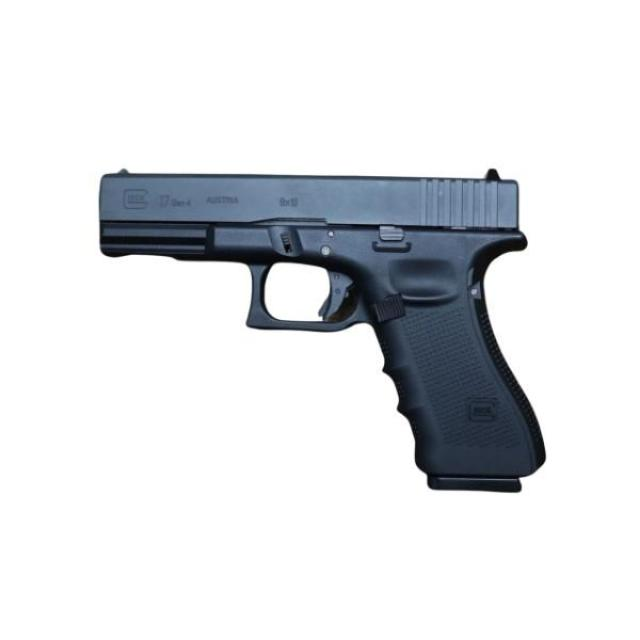gun: (98, 169, 548, 495)
